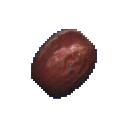gd: (9, 18, 128, 122)
